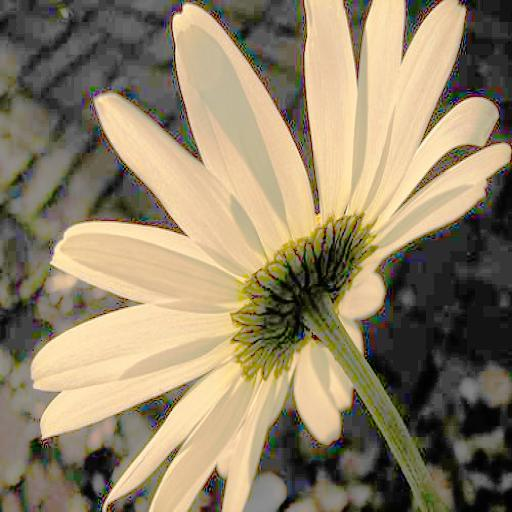daisy: (38, 2, 512, 506)
